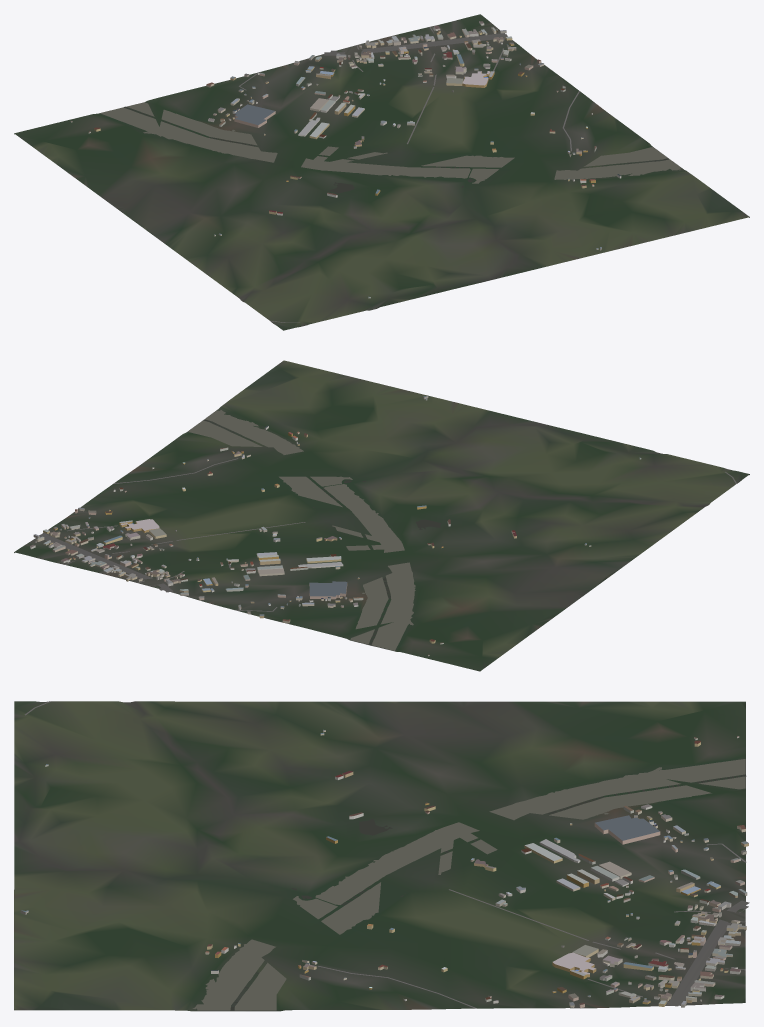
3 renders of one model, top to bottom at view 1: azimuth 30°, elevation 25°; view 2: azimuth 150°, elevation 25°; view 3: azimuth 270°, elevation 25°, orthographic. The views are drawn at different scales.
Visible parts, largest first — view 1: ground, water, buildings, roads; view 2: ground, water, buildings, roads; view 3: ground, water, buildings, roads.
Boxes of the visible parts, x1=… form: ground: x1=14, y1=14, x2=749, y2=330; water: x1=100, y1=102, x2=681, y2=193; buildings: x1=70, y1=21, x2=621, y2=298; roads: x1=239, y1=26, x2=579, y2=322; ground: x1=14, y1=360, x2=749, y2=671; water: x1=187, y1=410, x2=441, y2=650; buildings: x1=30, y1=396, x2=641, y2=656; roads: x1=39, y1=458, x2=736, y2=611; ground: x1=14, y1=701, x2=745, y2=1011; water: x1=192, y1=759, x2=746, y2=1010; buildings: x1=20, y1=729, x2=748, y2=1007; roads: x1=24, y1=701, x2=749, y2=1008.
Bounding box in the file's own units: 1409 × 26.41 × 1409.
